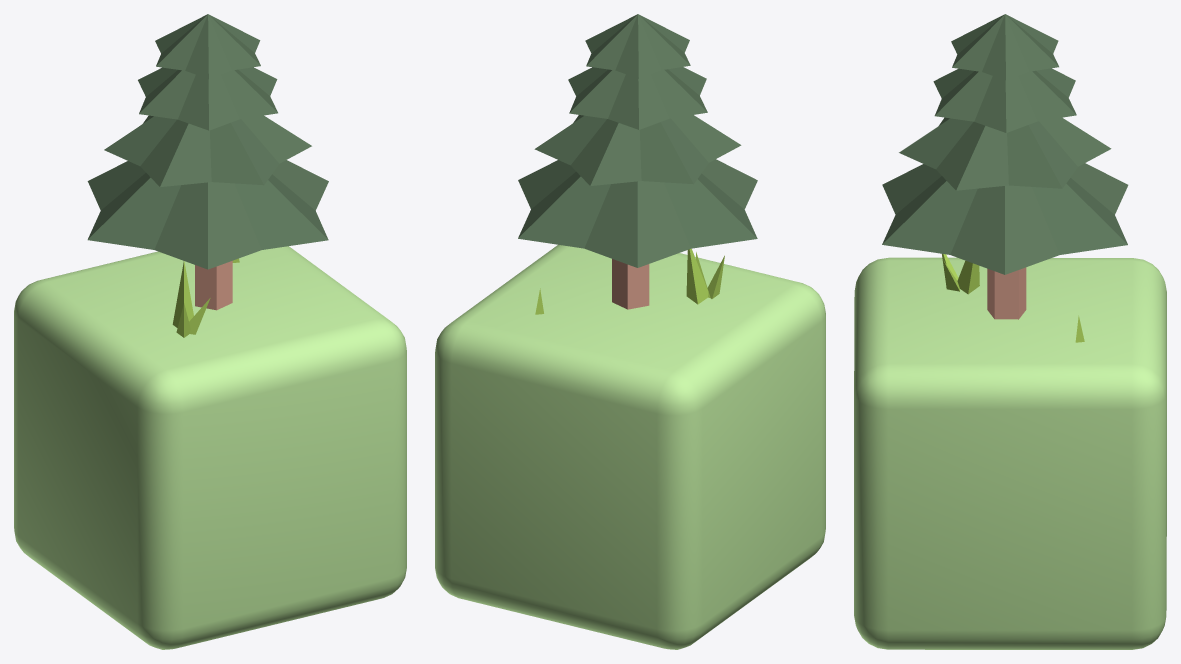
Rendered from tree2.fbx.
The picture shows the model from 3 angles, left to right: view 1: azimuth 30°, elevation 25°; view 2: azimuth 150°, elevation 25°; view 3: azimuth 270°, elevation 25°; orthographic projection. The views are drawn at different scales.
Parts seen in each view (by area): view 1: Cube.028; view 2: Cube.028; view 3: Cube.028.
Boxes of the visible parts, box(x1,y1,x2,y2) form: Cube.028: box(14, 14, 406, 649); Cube.028: box(435, 14, 825, 649); Cube.028: box(854, 14, 1166, 649).
Bounding box in the file's own units: 200 × 409 × 200.
